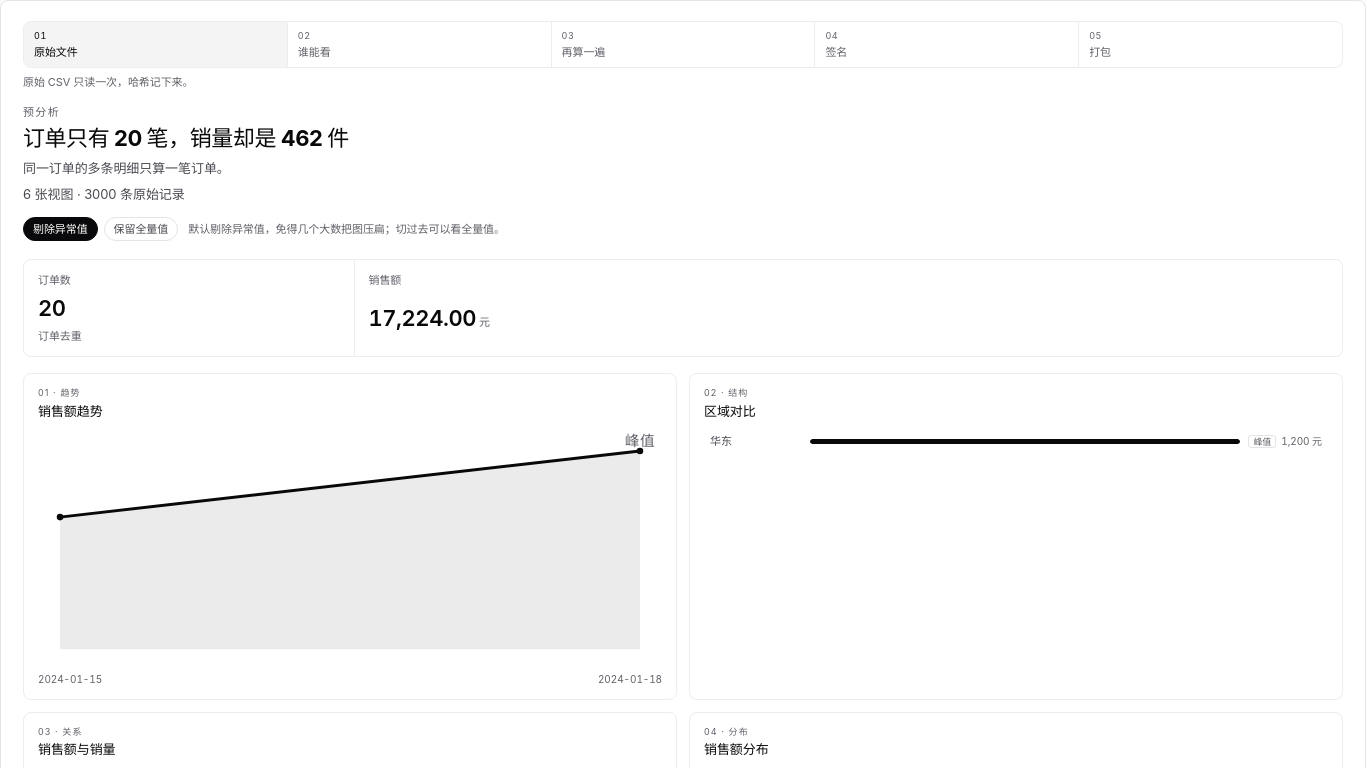
Test: DemoBrief › 只有 PII 脱敏时「谁能看」步骤仍然可用，并写明字段脱敏
What coordinates should you click on to do the following:
click the button "02 谁能看"
I would click on:
 (314, 52)
Its box is left=287, top=22, right=551, bottom=67.
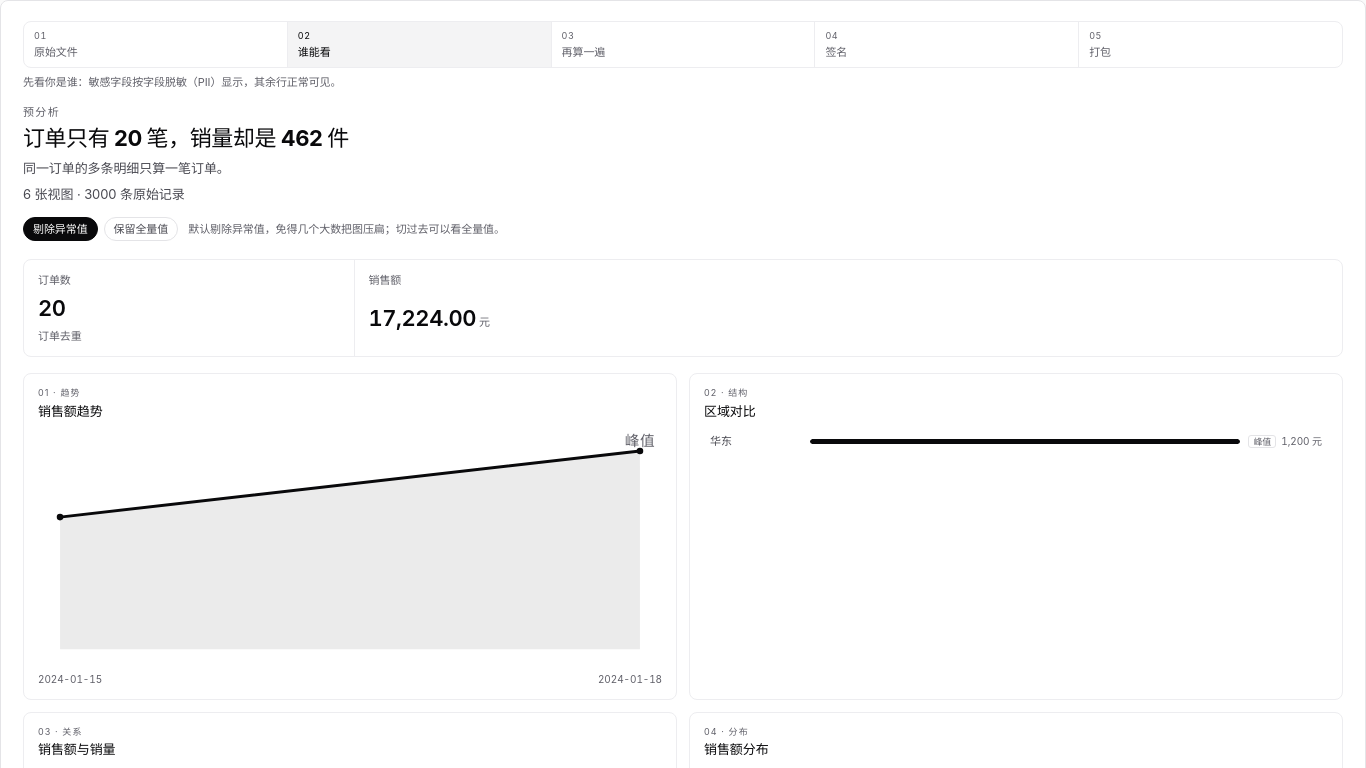
Expected: the message with class "demo-trust-detail" does not show "该演示未启用访问策略", left=23, top=75, right=342, bottom=89
Result: the message with class "demo-trust-detail" shows "字段脱敏（PII）" at left=23, top=75, right=342, bottom=89
